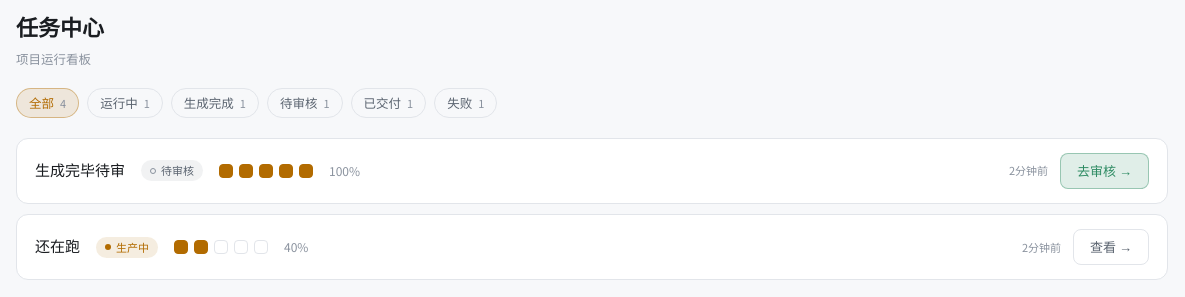
it: TaskCenterView › surfaces 生成完成 as a signal separate from the review-gated 已交付 bucket
Expected: the 2nd text "1" is shown, [240, 95, 246, 112]
Note: 切到生成完成：只剩进度打满那行，无关它是否已过审。
Click the tab "生成完成 1" at (215, 103), box [171, 88, 259, 118]
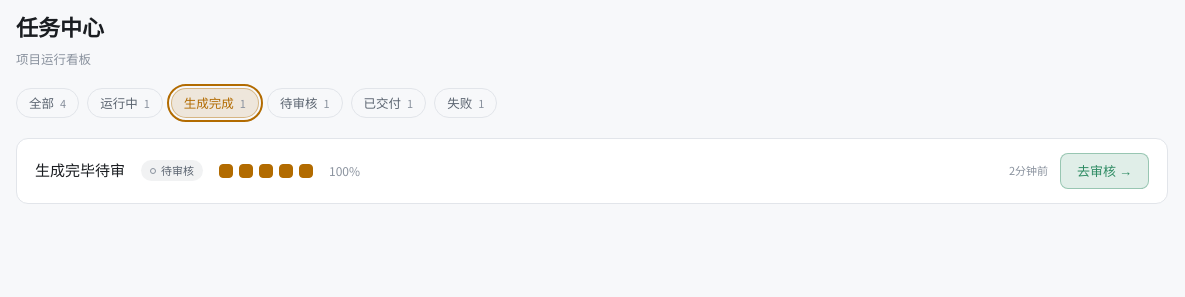
Expected: the text "生成完毕待审" is shown, [35, 159, 125, 183]
Expected: the text "还在跑" is gone
